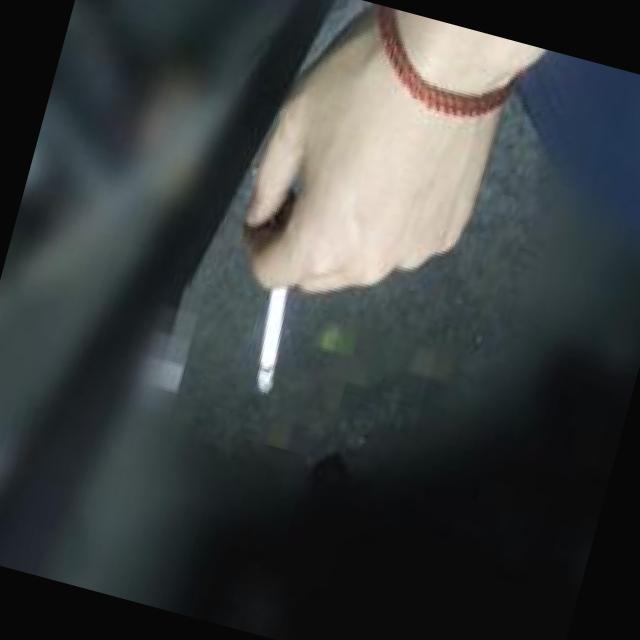smoke: (241, 288, 298, 402)
